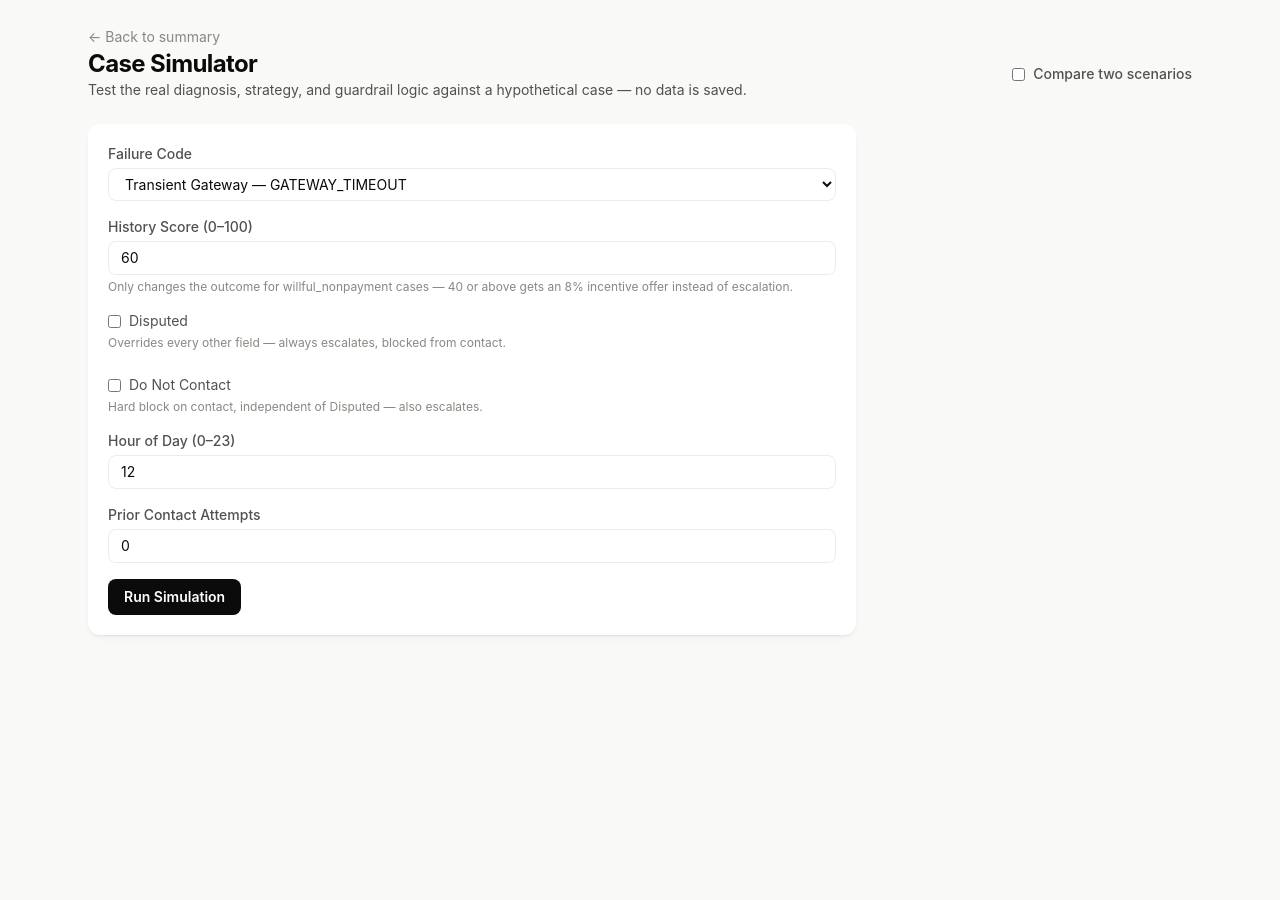
CaseSimulator › surfaces the guardrail rule AND full reason in the always-visible chain text, not hidden behind "Why?"
Click the button "Run Simulation": [175, 597] box [108,579,241,615]
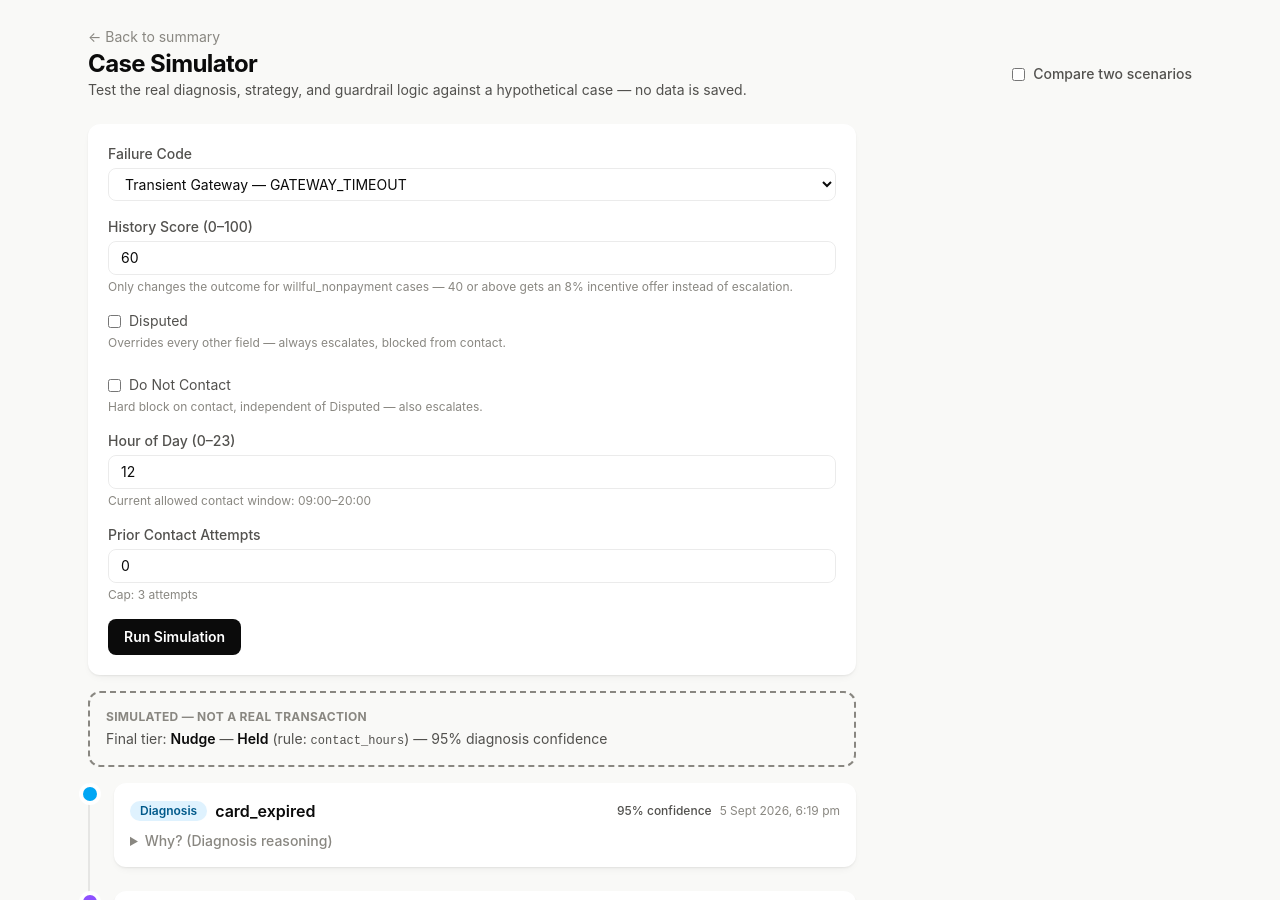
Now the text "Simulated — not a real transaction" is shown, box [106,709,367,724]
